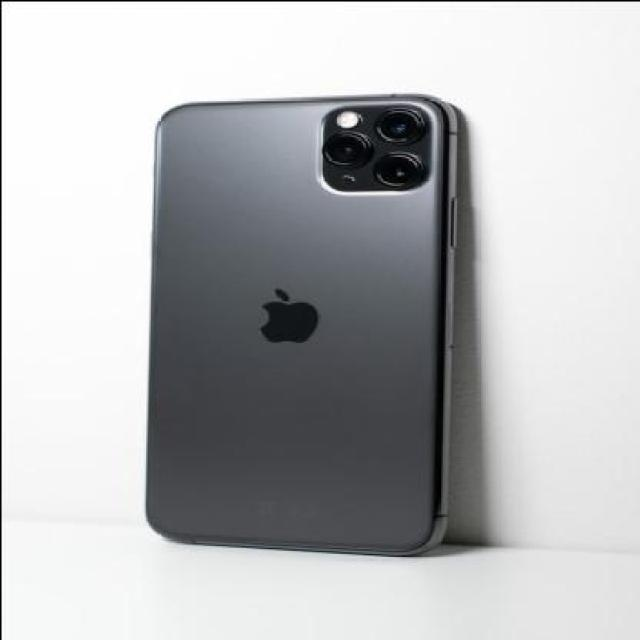phone: (146, 90, 457, 544)
